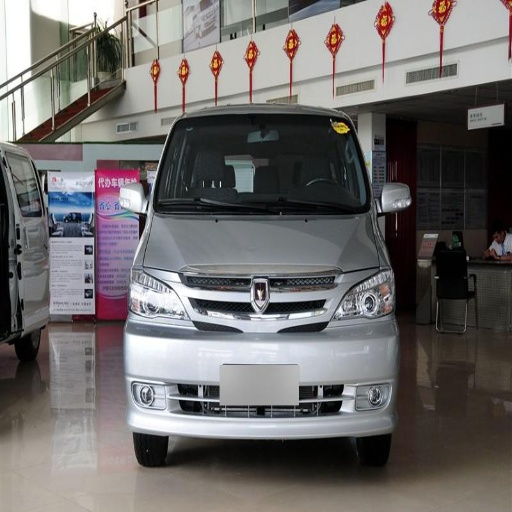front_bumper: (129, 268, 394, 433)
front_right_light: (130, 266, 186, 324)
hood: (144, 214, 379, 289)
